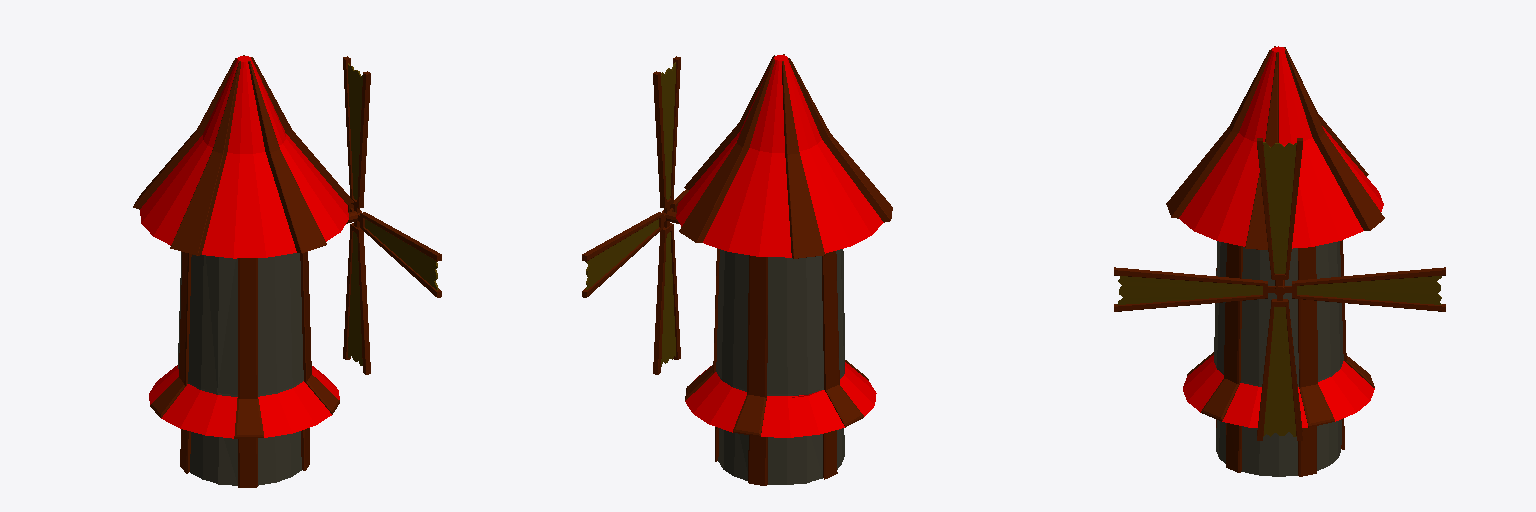
File: Wildmill_RedTeam.obj
3 views of the same model, side by side, from view 1: azimuth 30°, elevation 25°; view 2: azimuth 150°, elevation 25°; view 3: azimuth 270°, elevation 25° (orthographic).
Parts seen in each view (by area): view 1: Wildmill_RedTeam_Cylinder, WingsWildmill_RedTeam_Cube.005; view 2: Wildmill_RedTeam_Cylinder, WingsWildmill_RedTeam_Cube.005; view 3: Wildmill_RedTeam_Cylinder, WingsWildmill_RedTeam_Cube.005.
Part boxes in pixels (x1,y1,x2,y2): Wildmill_RedTeam_Cylinder: (133,55,361,487); WingsWildmill_RedTeam_Cube.005: (343,56,441,374); Wildmill_RedTeam_Cylinder: (662,54,892,485); WingsWildmill_RedTeam_Cube.005: (582,56,688,374); Wildmill_RedTeam_Cylinder: (1166,46,1384,476); WingsWildmill_RedTeam_Cube.005: (1114,138,1445,440).
Size of the model in its own units: 20.98 by 38.5 by 28.82.